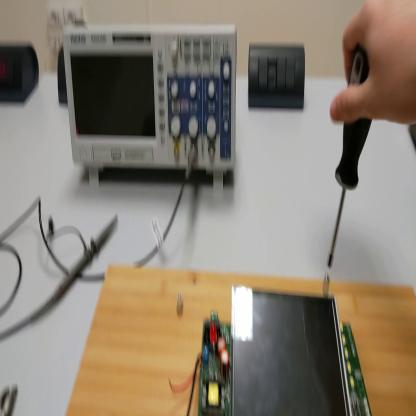hand: (329, 2, 416, 127)
low voltage board: (171, 288, 370, 412)
oscilloscope: (60, 25, 239, 191)
oscilloscope probe tip: (33, 216, 118, 323)
pliers: (3, 384, 18, 414)
screwdriver-: (330, 46, 371, 268)
socket: (1, 45, 41, 107), (59, 44, 67, 106)
working area: (63, 257, 416, 415)
